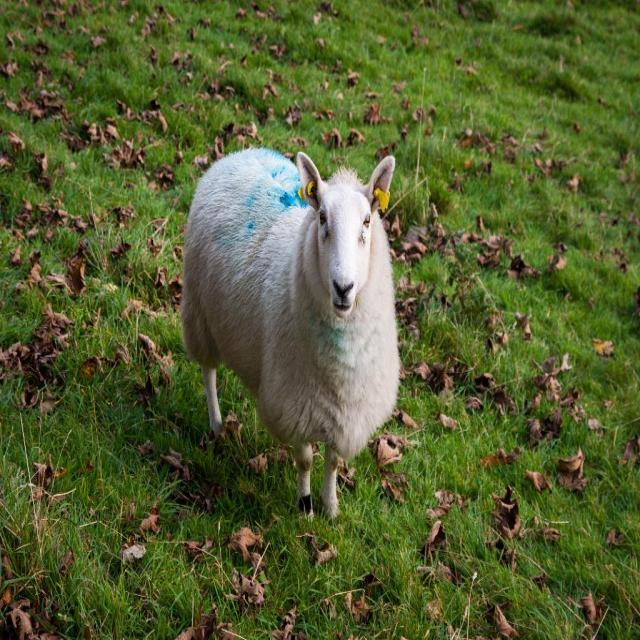Sheep: (180, 147, 401, 522)
